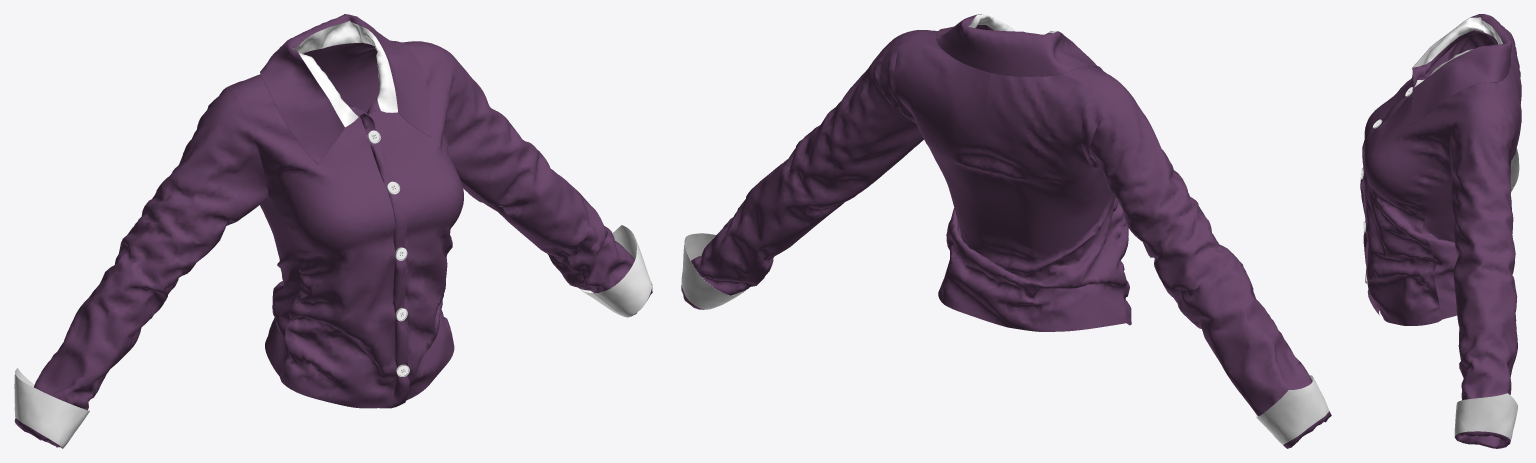
Rendered from 3Angle.fbx.
3 renders of one model, left to right at view 1: azimuth 30°, elevation 25°; view 2: azimuth 150°, elevation 25°; view 3: azimuth 270°, elevation 25°, orthographic. The views are drawn at different scales.
Visible parts, largest first — view 1: 3Angle; view 2: 3Angle; view 3: 3Angle.
Boxes of the visible parts, <box> form: 3Angle: <box>14,14,652,448</box>; 3Angle: <box>681,14,1331,448</box>; 3Angle: <box>1360,14,1521,448</box>.
Bounding box in the file's own units: 107 × 57.15 × 28.13.
